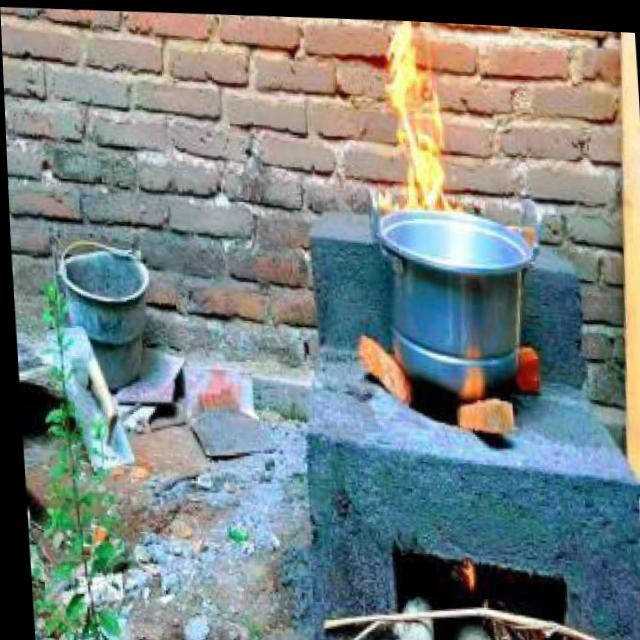Fire: (362, 15, 464, 233), (450, 322, 492, 404), (452, 539, 476, 588)
